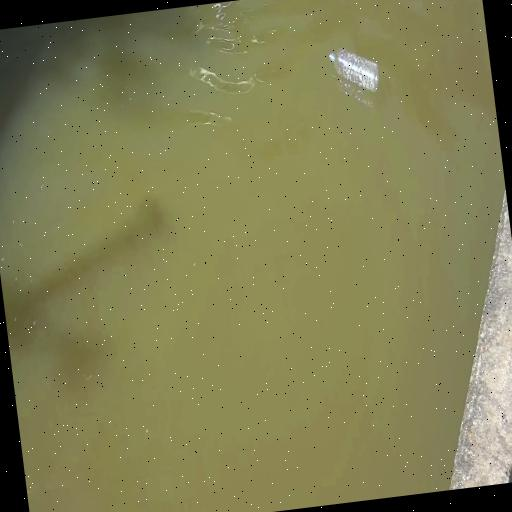plastic: (327, 42, 383, 100)
